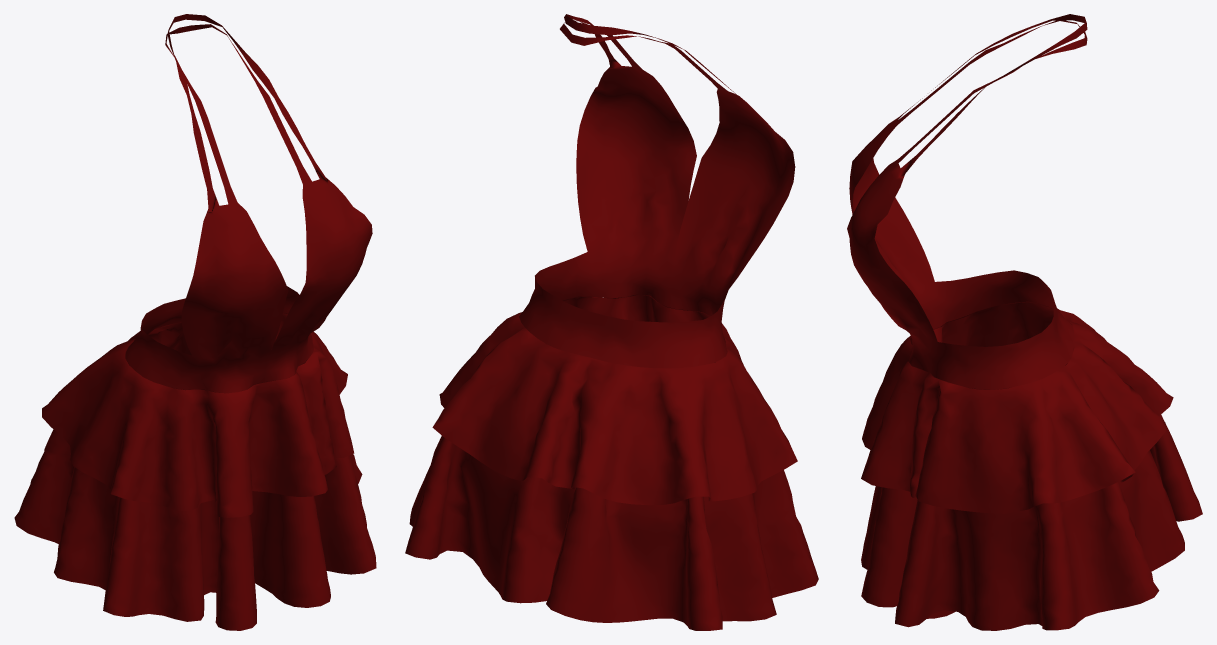
Rendered from babydoll.obj.
The picture shows the model from 3 angles, left to right: view 1: azimuth 30°, elevation 25°; view 2: azimuth 150°, elevation 25°; view 3: azimuth 270°, elevation 25°; orthographic projection. The views are drawn at different scales.
Visible parts, largest first — view 1: Pattern2D_137756, Pattern2D_137757, Pattern2D_303285, Pattern2D_303286, Pattern2D_7841, Pattern2D_318498, Pattern2D_318497; view 2: Pattern2D_137756, Pattern2D_137757, Pattern2D_303286, Pattern2D_7841, Pattern2D_303285, Pattern2D_318498, Pattern2D_318497; view 3: Pattern2D_137756, Pattern2D_137757, Pattern2D_7841, Pattern2D_303286, Pattern2D_303285, Pattern2D_318498, Pattern2D_318497.
Part boxes in pixels (x1,y1,x2,y2): Pattern2D_137756: (14, 313, 376, 630); Pattern2D_137757: (42, 313, 354, 517); Pattern2D_303285: (181, 202, 288, 359); Pattern2D_303286: (271, 177, 372, 350); Pattern2D_7841: (125, 286, 313, 393); Pattern2D_318498: (167, 14, 325, 208); Pattern2D_318497: (165, 24, 311, 204); Pattern2D_137756: (405, 295, 818, 630); Pattern2D_137757: (432, 294, 797, 505); Pattern2D_303286: (576, 66, 696, 259); Pattern2D_7841: (519, 250, 728, 368); Pattern2D_303285: (675, 88, 795, 289); Pattern2D_318498: (564, 14, 740, 97); Pattern2D_318497: (560, 20, 727, 90); Pattern2D_137756: (861, 302, 1202, 630); Pattern2D_137757: (861, 301, 1173, 513); Pattern2D_7841: (908, 270, 1073, 389); Pattern2D_303286: (847, 159, 937, 341); Pattern2D_303285: (849, 115, 934, 292); Pattern2D_318498: (900, 14, 1087, 173); Pattern2D_318497: (896, 20, 1087, 162).
Bounding box in the file's own units: 0.5033 × 0.8106 × 0.4601.
